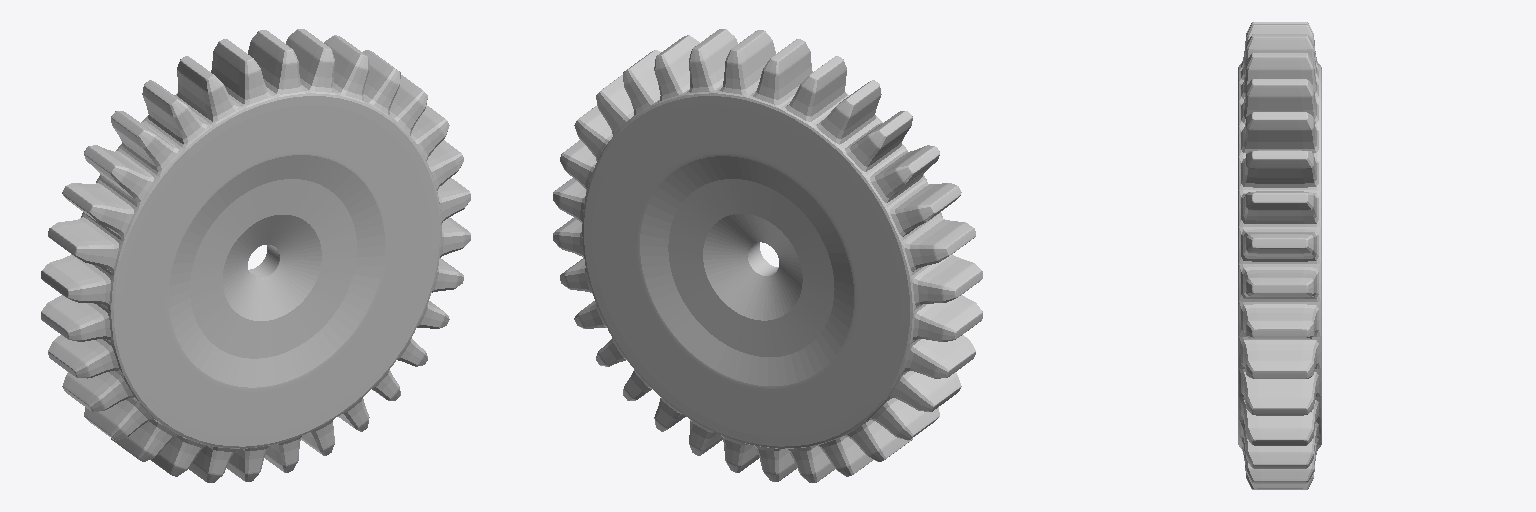
The model's file is gear11.obj.
3 views of the same model, side by side, from view 1: azimuth 30°, elevation 25°; view 2: azimuth 150°, elevation 25°; view 3: azimuth 270°, elevation 25° (orthographic).
Parts seen in each view (by area): view 1: Cylinder.019_Cylinder.034; view 2: Cylinder.019_Cylinder.034; view 3: Cylinder.019_Cylinder.034.
Boxes of the visible parts, x1=… form: Cylinder.019_Cylinder.034: x1=41, y1=29, x2=470, y2=482; Cylinder.019_Cylinder.034: x1=553, y1=29, x2=982, y2=482; Cylinder.019_Cylinder.034: x1=1238, y1=22, x2=1321, y2=489.
Bounding box in the file's own units: 2.43 × 2.43 × 0.437.